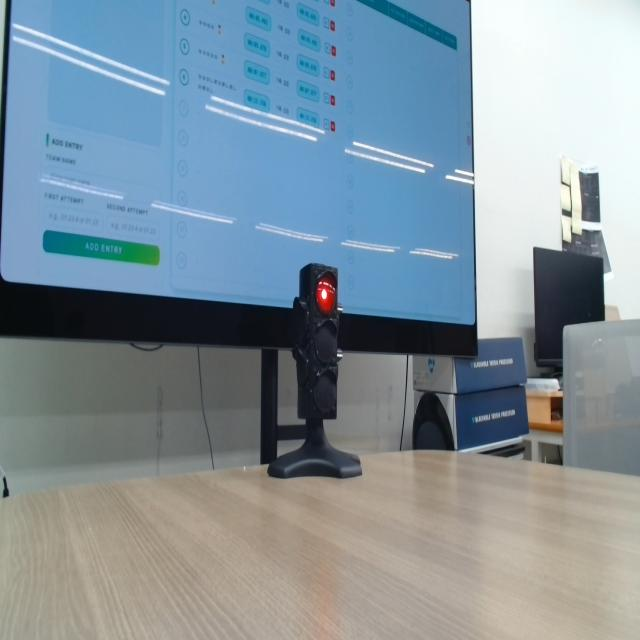red_light: (316, 277, 336, 314)
